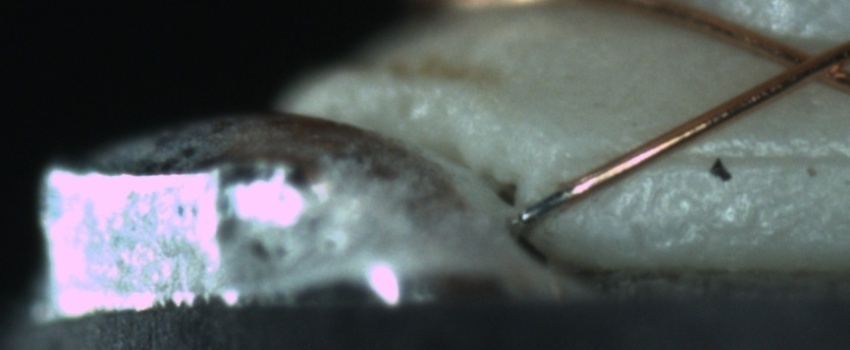CL: (767, 33, 848, 90)
DL: (664, 129, 849, 187)
TS: (517, 184, 573, 222)
TTCW: (517, 174, 582, 223)
